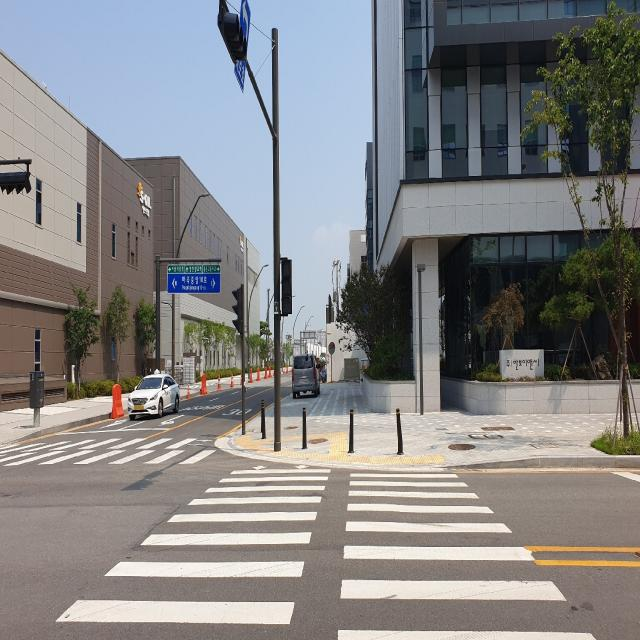횡단보도: (53, 460, 599, 640), (0, 421, 224, 473)
